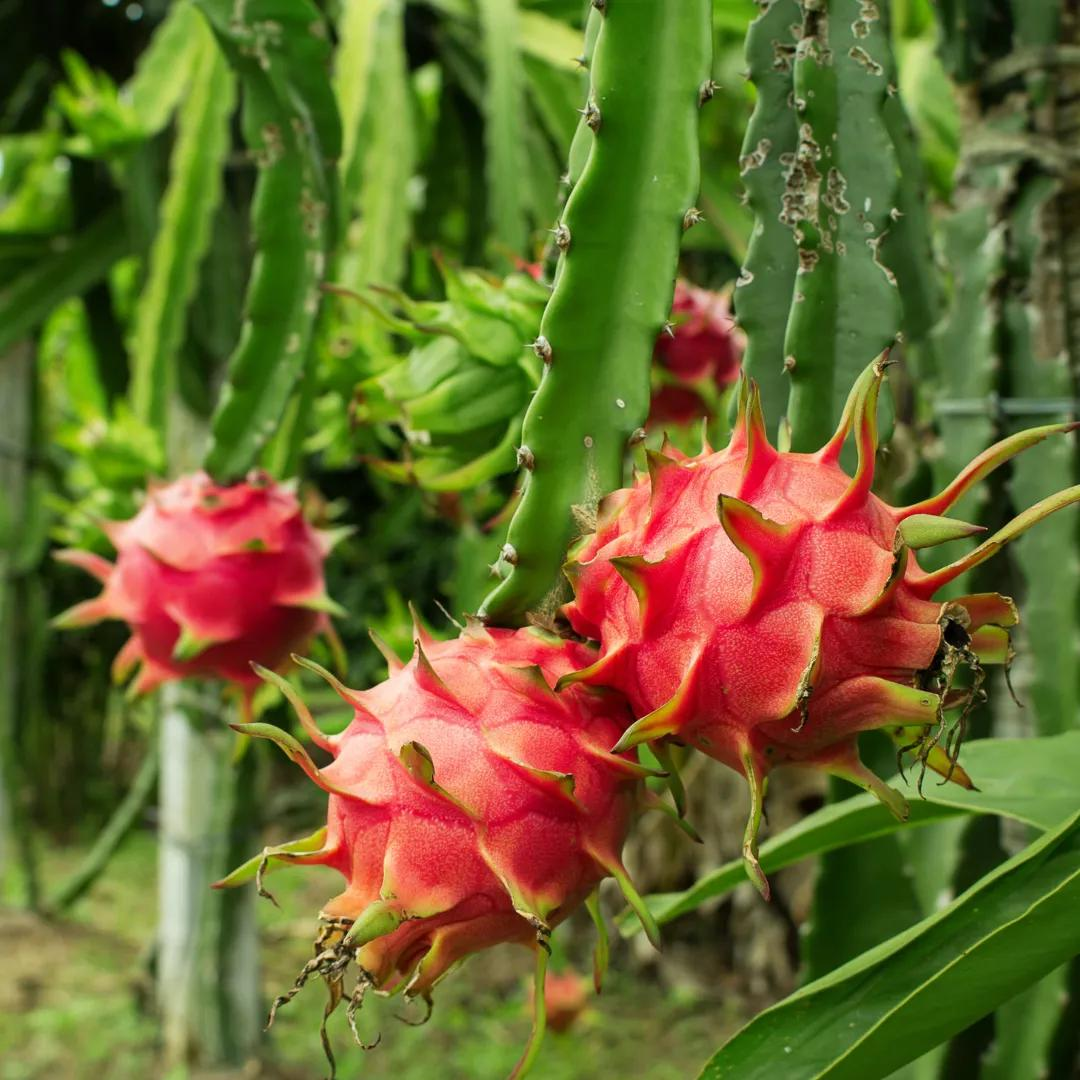dragon fruit: (556, 402, 1023, 837), (264, 614, 668, 998)
